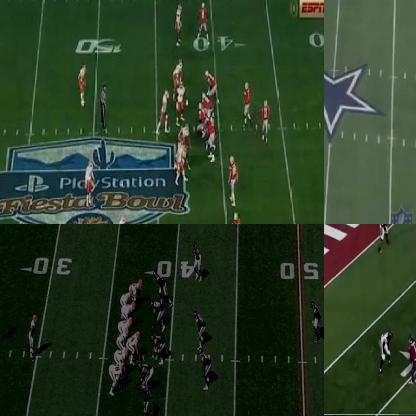CENTER: (129, 330, 142, 362), (194, 101, 204, 133)
DB: (84, 160, 96, 206), (77, 62, 88, 106), (406, 335, 415, 388), (312, 302, 323, 342), (174, 6, 184, 41), (192, 243, 202, 278), (30, 314, 38, 355), (379, 224, 389, 245), (116, 214, 127, 223)
LB: (201, 352, 214, 391), (193, 312, 206, 341), (154, 270, 167, 298), (161, 90, 167, 133)
QB: (244, 80, 251, 124), (116, 327, 128, 348)
SKILL: (381, 329, 394, 368), (227, 154, 238, 200), (197, 2, 209, 40), (260, 101, 270, 139), (176, 148, 186, 185), (174, 59, 183, 87), (132, 280, 143, 300), (120, 289, 134, 304), (231, 210, 242, 223)
